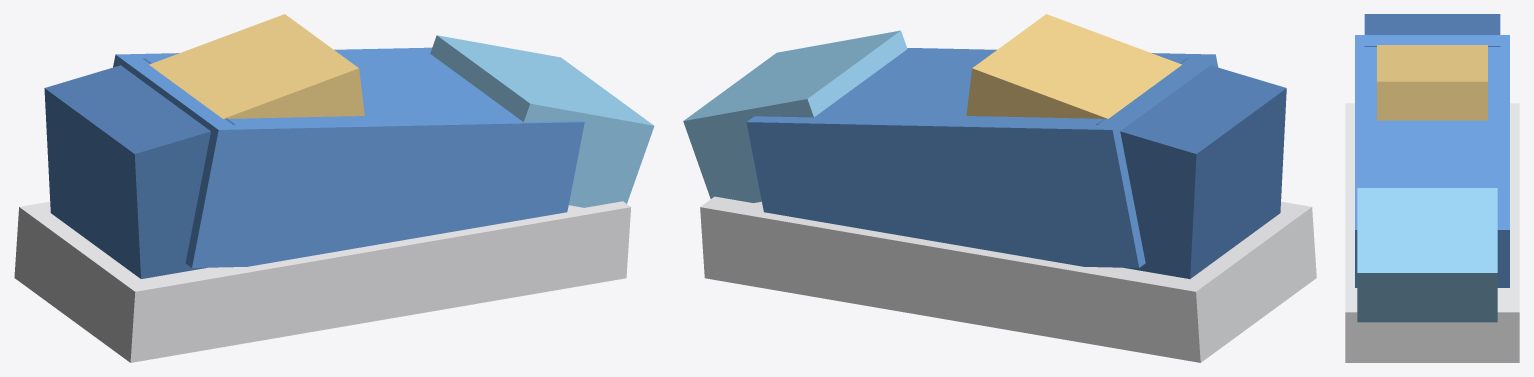
File: sneaker.glb
3 views of the same model, side by side, from view 1: azimuth 30°, elevation 25°; view 2: azimuth 150°, elevation 25°; view 3: azimuth 270°, elevation 25° (orthographic). The views are drawn at different scales.
Parts seen in each view (by area): view 1: sneaker-upper, sneaker-sole, sneaker-heel, sneaker-toe, sneaker-collar; view 2: sneaker-upper, sneaker-sole, sneaker-heel, sneaker-collar, sneaker-toe; view 3: sneaker-toe, sneaker-upper, sneaker-sole, sneaker-collar, sneaker-heel.
Boxes of the visible parts, <box> form: sneaker-upper: <box>113,47,584,267</box>; sneaker-sole: <box>14,201,631,362</box>; sneaker-heel: <box>44,58,235,278</box>; sneaker-toe: <box>430,35,654,207</box>; sneaker-collar: <box>149,14,364,118</box>; sneaker-upper: <box>746,48,1218,267</box>; sneaker-sole: <box>700,196,1316,362</box>; sneaker-heel: <box>1096,58,1286,278</box>; sneaker-collar: <box>966,14,1181,118</box>; sneaker-toe: <box>683,30,907,202</box>; sneaker-toe: <box>1357,188,1497,322</box>; sneaker-upper: <box>1355,35,1509,287</box>; sneaker-sole: <box>1345,103,1519,362</box>; sneaker-collar: <box>1377,45,1487,120</box>; sneaker-heel: <box>1364,14,1500,46</box>.
Size of the model in its own units: 1.9 by 0.8716 by 0.72.
